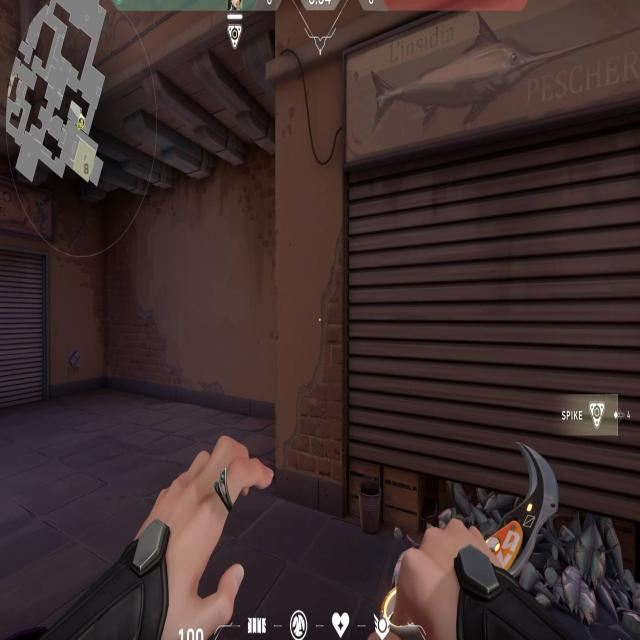B_Main_Corner: (277, 148, 638, 555)
